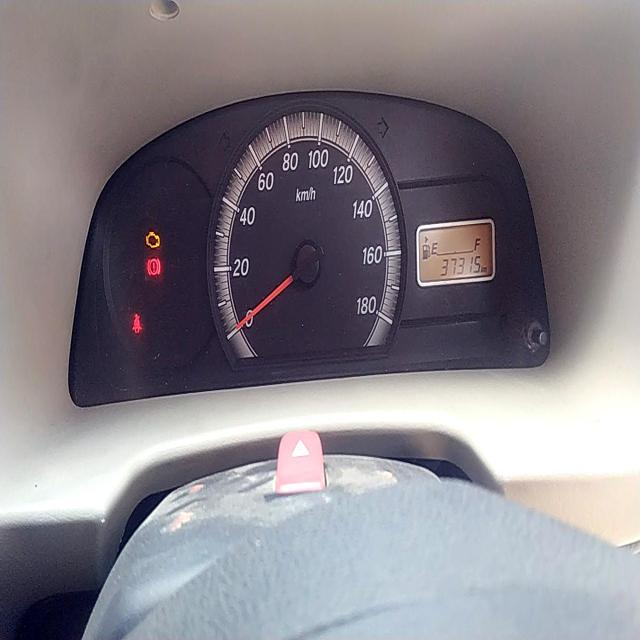odometer: (438, 252, 482, 279)
